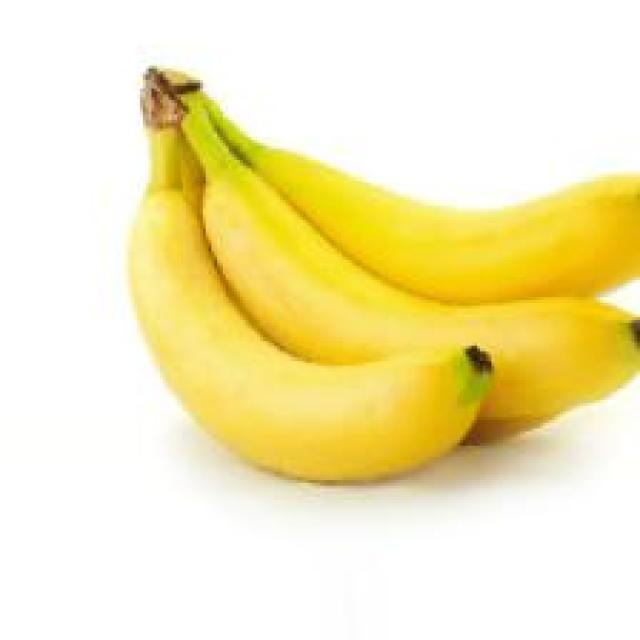banana: (100, 29, 640, 500)
